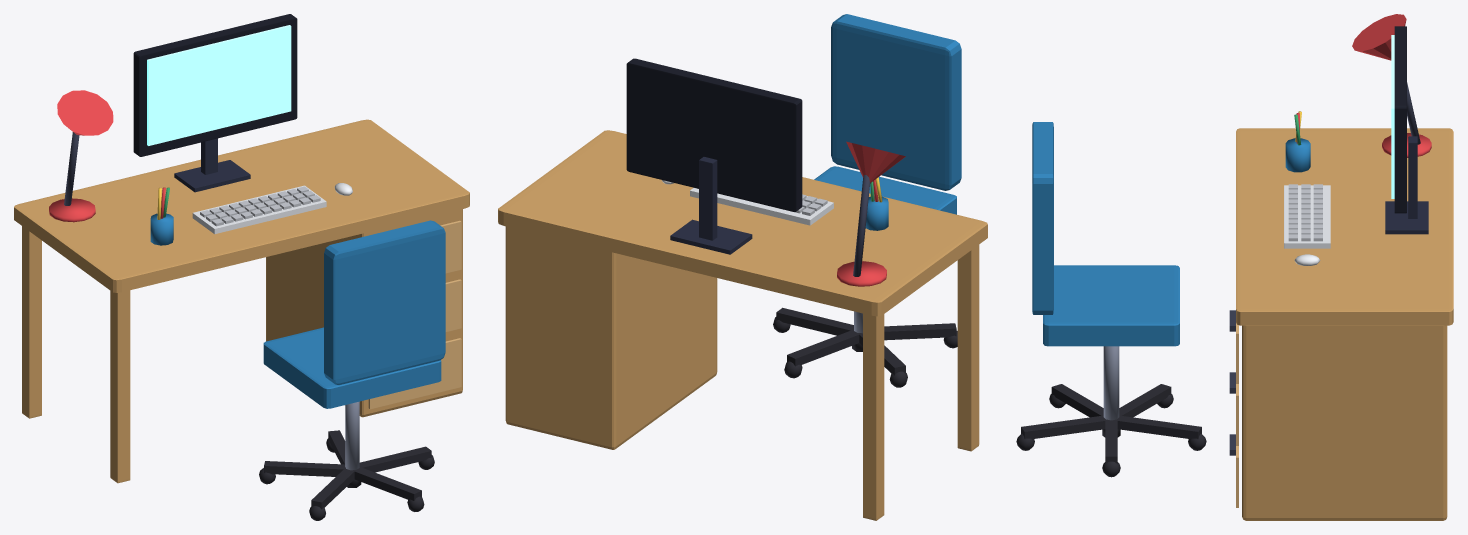
File: desk.glb
The picture shows the model from 3 angles, left to right: view 1: azimuth 30°, elevation 25°; view 2: azimuth 150°, elevation 25°; view 3: azimuth 270°, elevation 25°; orthographic projection. The views are drawn at different scales.
Visible parts, largest first — view 1: desk; view 2: desk; view 3: desk.
Boxes of the visible parts, <box> form: desk: <box>14,14,469,520</box>; desk: <box>498,14,987,520</box>; desk: <box>1016,14,1453,520</box>.
Bounding box in the file's own units: 1.4 × 1.32 × 1.41.
Materials: 2 (2 with a texture image).
